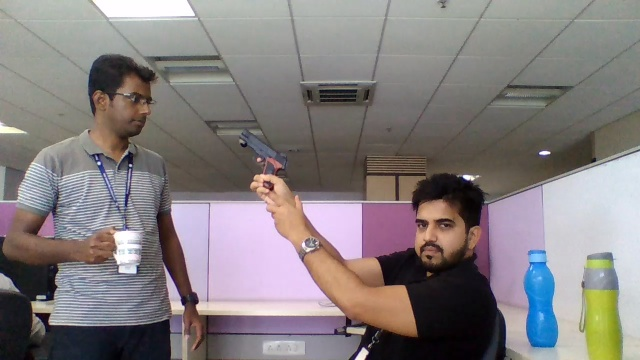gun: (240, 129, 289, 175)
